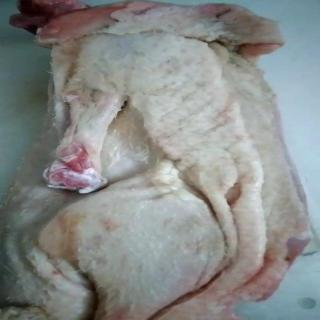Ayam: (1, 1, 313, 320)
